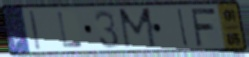3: (93, 8, 121, 51)
F: (189, 7, 218, 48)
I: (27, 9, 42, 52), (176, 7, 190, 49)
L: (55, 11, 85, 49)
M: (116, 6, 159, 51)
